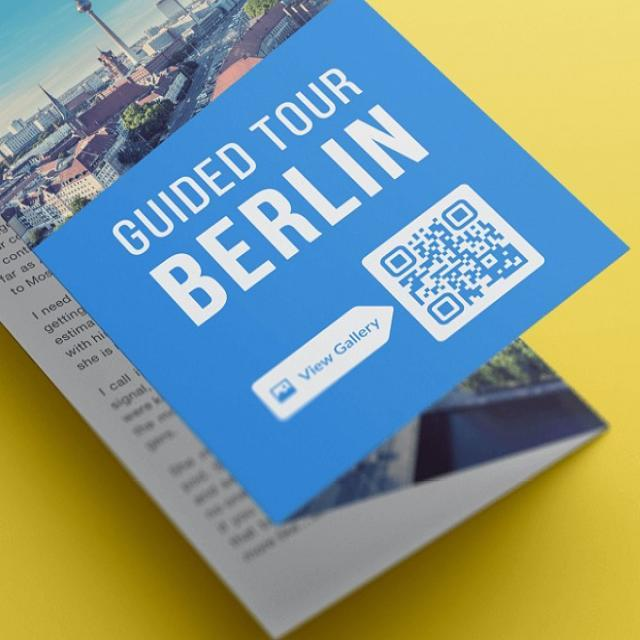qr_code: (381, 200, 529, 325)
